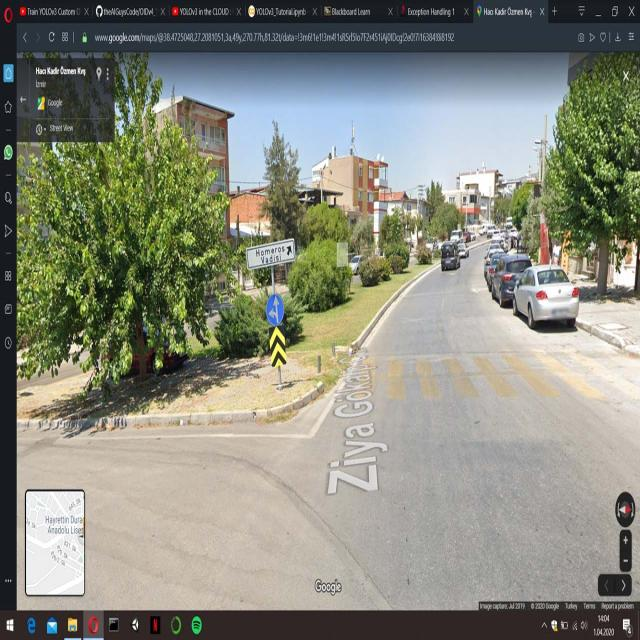ilerisol: (266, 294, 284, 326)
